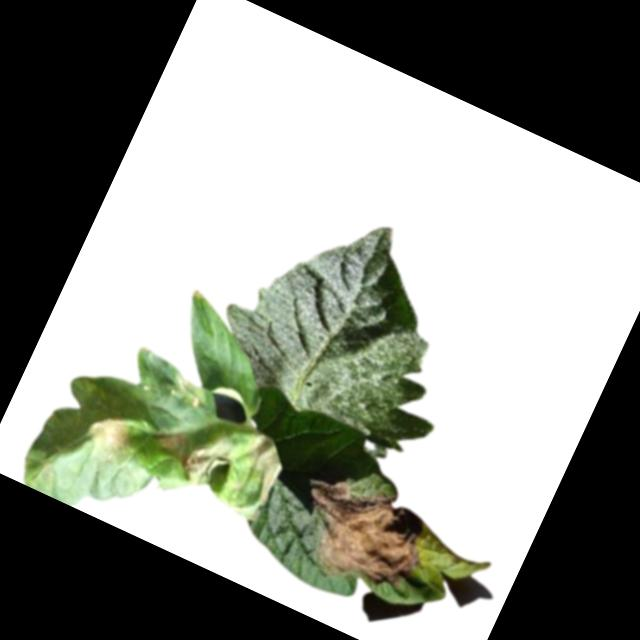Late_blight: (282, 461, 445, 607), (226, 428, 297, 512), (177, 421, 241, 491), (82, 403, 143, 464), (164, 370, 212, 412), (155, 422, 190, 457)
healthy: (202, 178, 505, 463)
